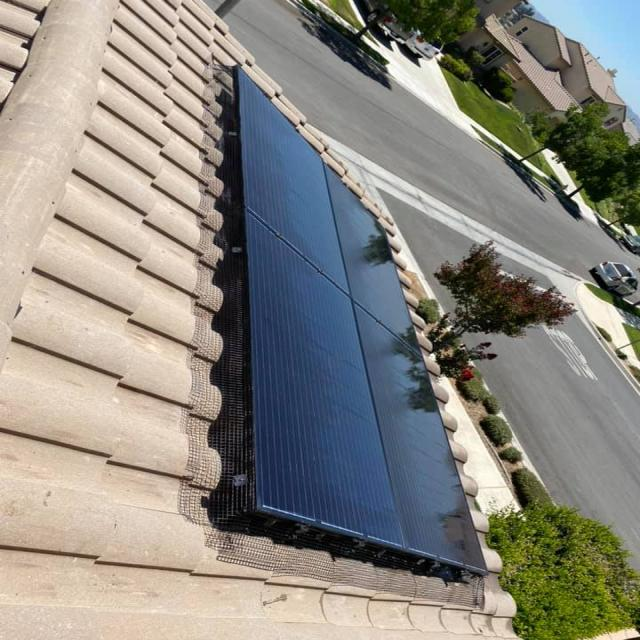clean-solar-panel: (237, 70, 485, 574)
